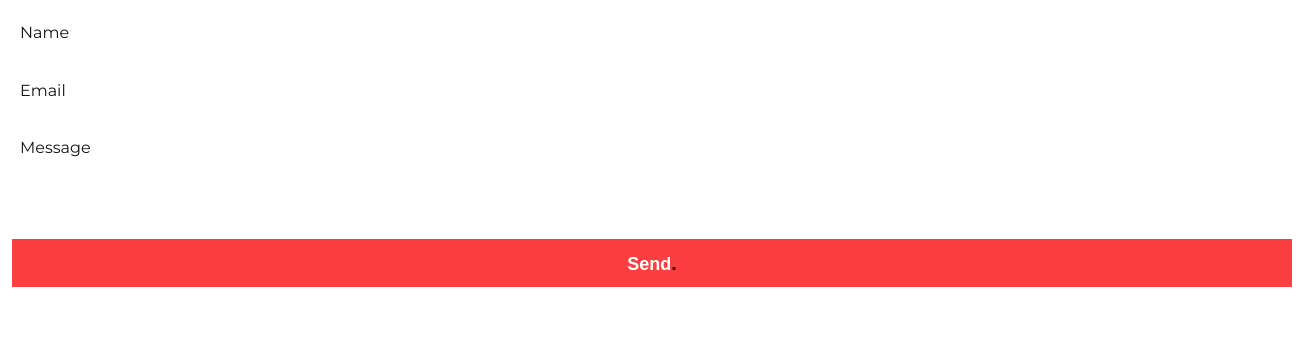
Test: Contact Form › should display matching error when message is invalid
Type "name" into the field with placeholder "Name" at (652, 33), box [12, 12, 1292, 54]
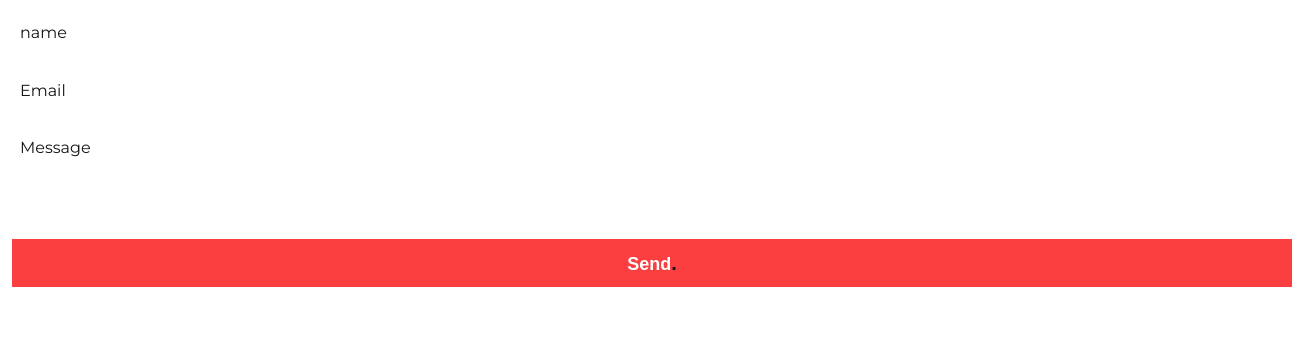
Type "test@mail.com" into the field with placeholder "Email" at (652, 90), box [12, 70, 1292, 111]
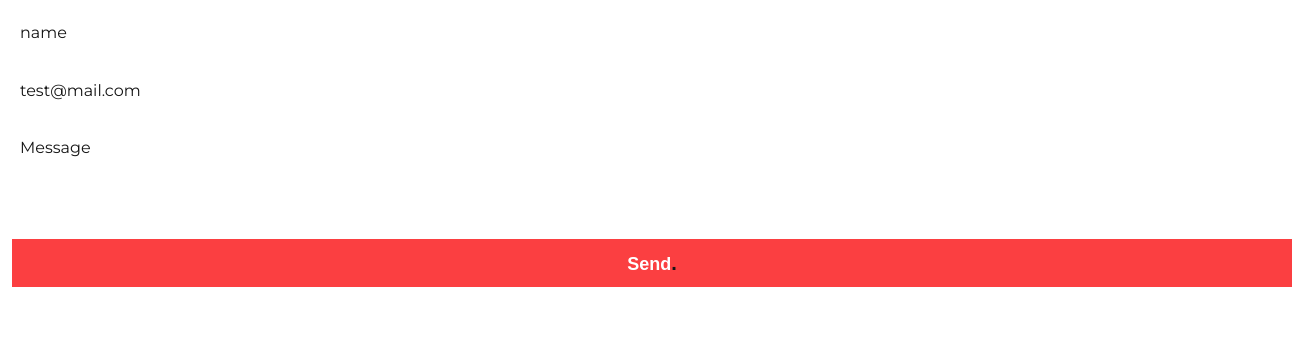
Type "S" into the text box with placeholder "Message" at (652, 175), box [12, 127, 1292, 223]
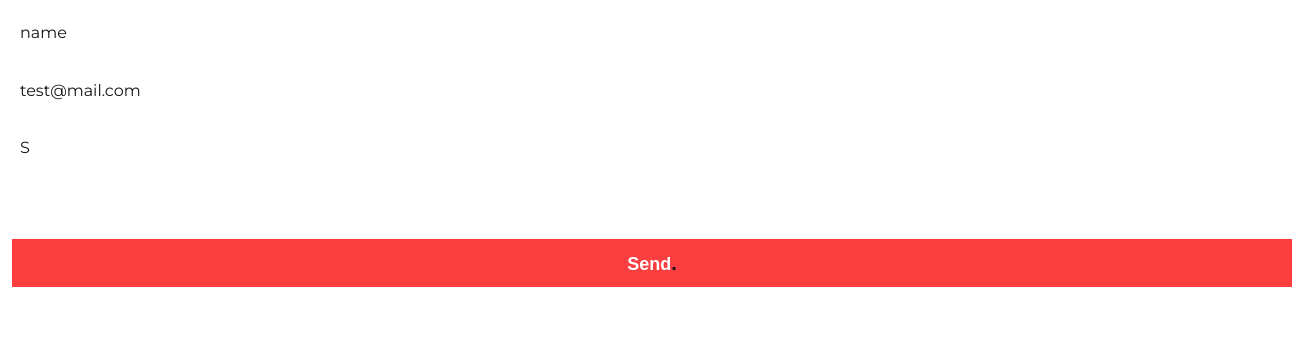
Submit the form from the button, box [12, 239, 1292, 287]
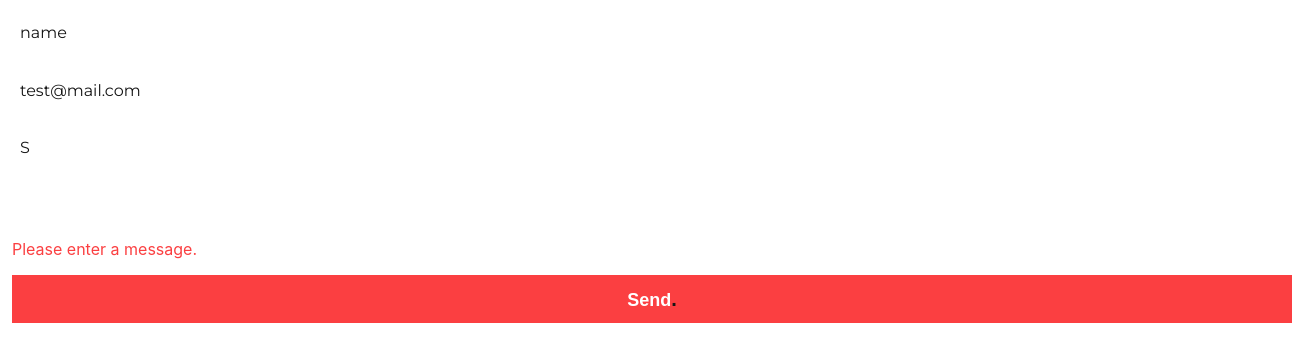
Result: the number of messages is 1 at [12, 239, 197, 259]
